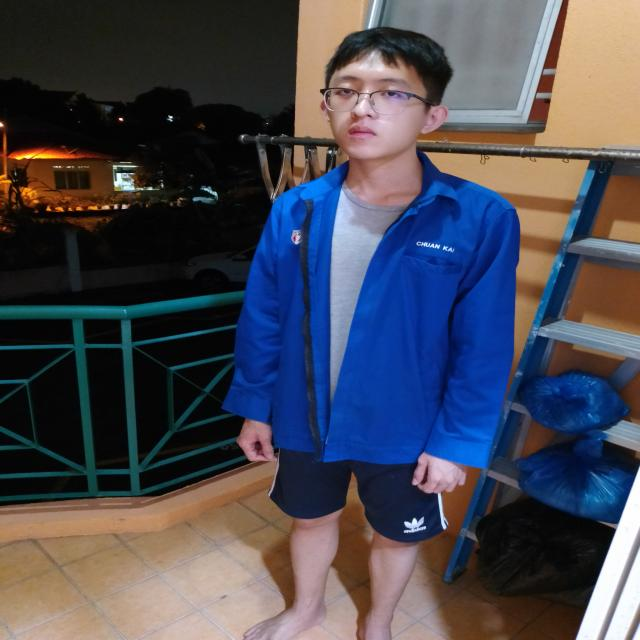person_with_labcoat: (223, 28, 520, 640)
